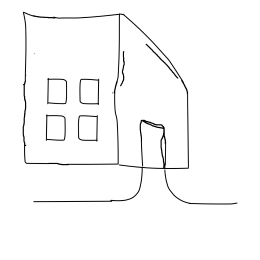door: (135, 115, 173, 169)
open_window: (73, 111, 107, 145), (42, 73, 73, 110), (43, 111, 70, 145), (77, 77, 104, 110)
single_line_roof: (11, 6, 181, 76)
wall: (17, 7, 125, 166), (110, 9, 196, 172)
